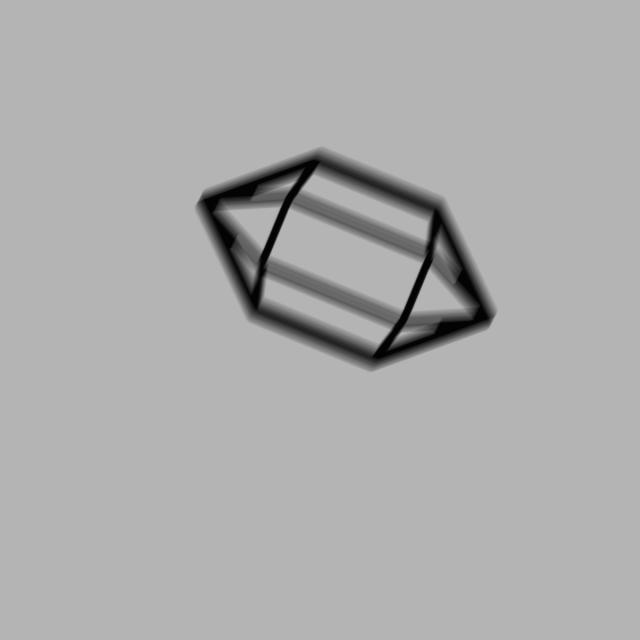crystal: (188, 141, 504, 381)
